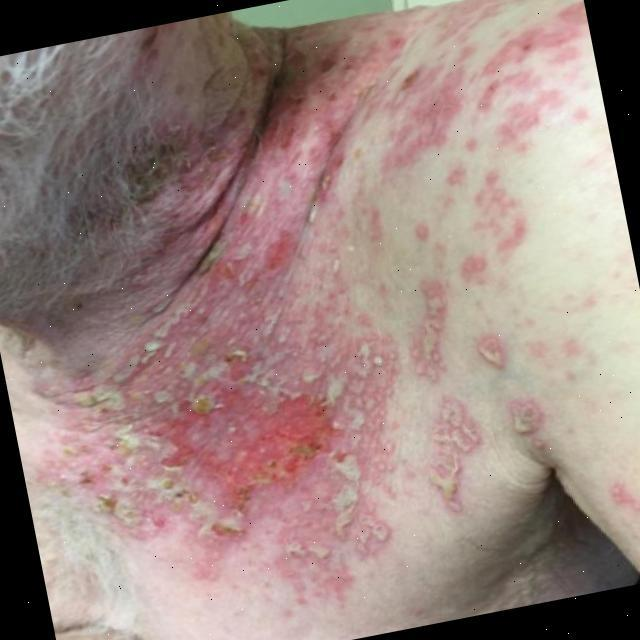Shingles: (42, 0, 591, 604)
